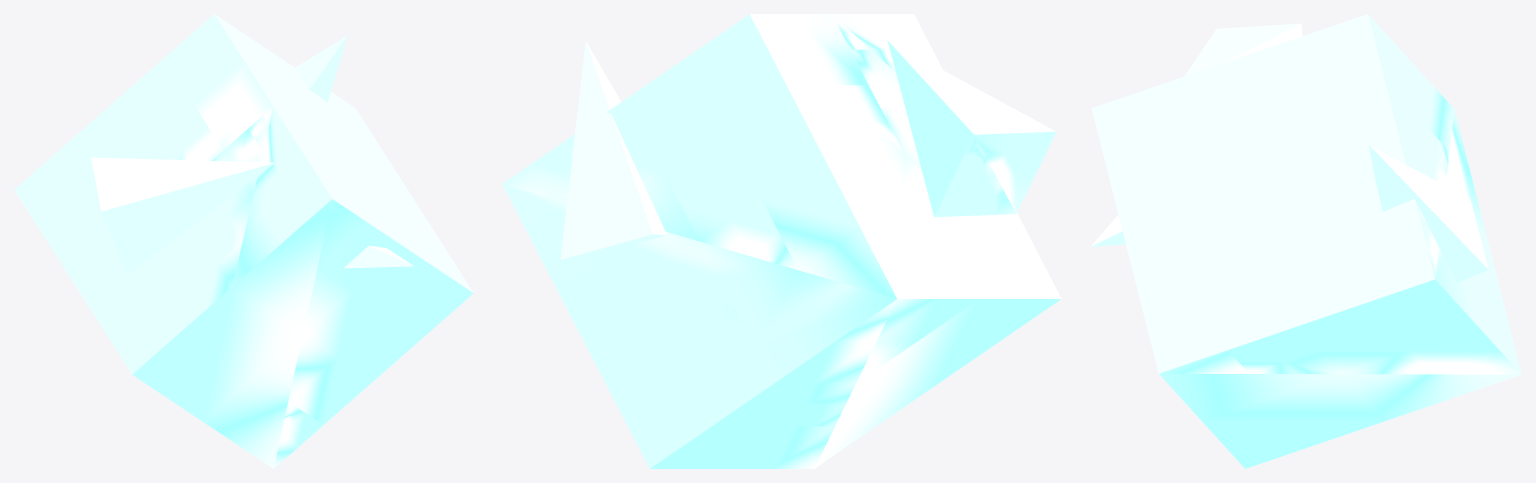
The model's file is ice.glb.
The picture shows the model from 3 angles, left to right: view 1: azimuth 30°, elevation 25°; view 2: azimuth 150°, elevation 25°; view 3: azimuth 270°, elevation 25°; orthographic projection. The views are drawn at different scales.
Visible parts, largest first — view 1: PangIceBody; view 2: PangIceBody; view 3: PangIceBody.
Part boxes in pixels (x1,y1,x2,y2): PangIceBody: (14,14,473,468); PangIceBody: (502,14,1061,468); PangIceBody: (1090,14,1521,468).
Size of the model in its own units: 0.9329 by 1.04 by 0.8995.
